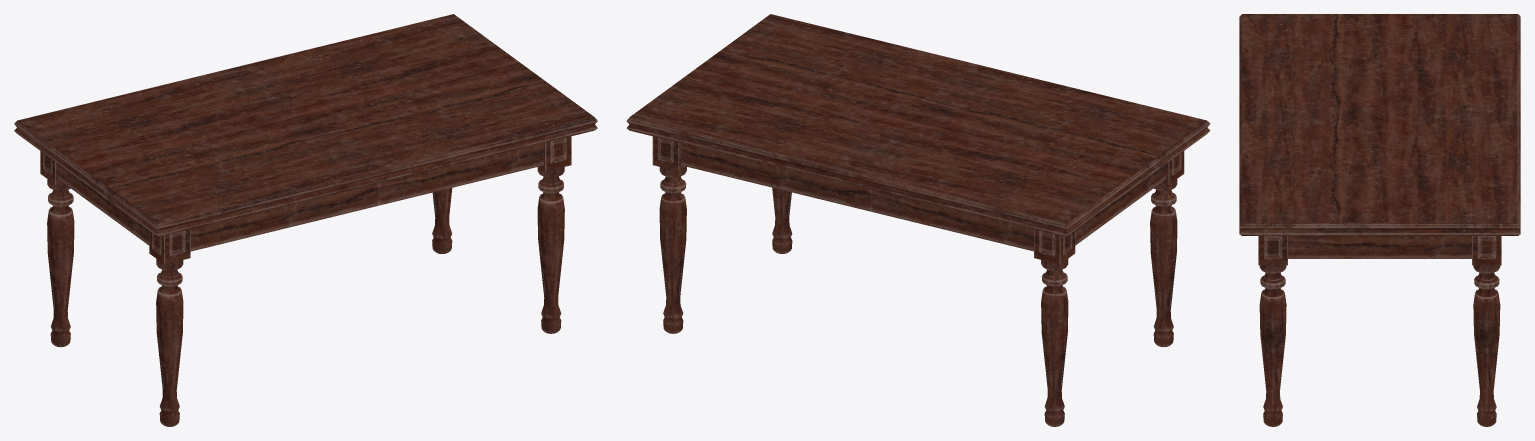
Rendered from old_table.glb.
3 renders of one model, left to right at view 1: azimuth 30°, elevation 25°; view 2: azimuth 150°, elevation 25°; view 3: azimuth 270°, elevation 25°, orthographic. The views are drawn at different scales.
Parts seen in each view (by area): view 1: Old_Table; view 2: Old_Table; view 3: Old_Table.
Part boxes in pixels (x1,y1,x2,y2): Old_Table: [14, 14, 597, 426]; Old_Table: [626, 14, 1210, 426]; Old_Table: [1239, 14, 1520, 426].
Bounding box in the file's own units: 1.58 × 0.7496 × 0.8899.
Materials: 1 (1 with a texture image).
